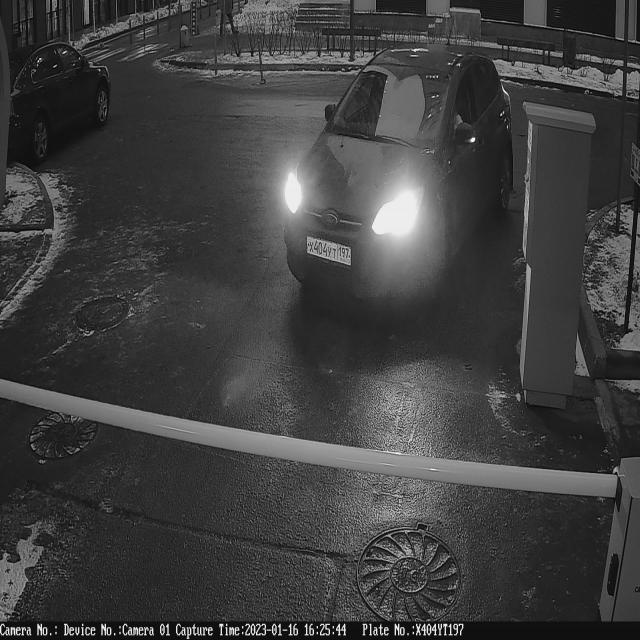car-plate-numbers: (305, 230, 354, 272)
